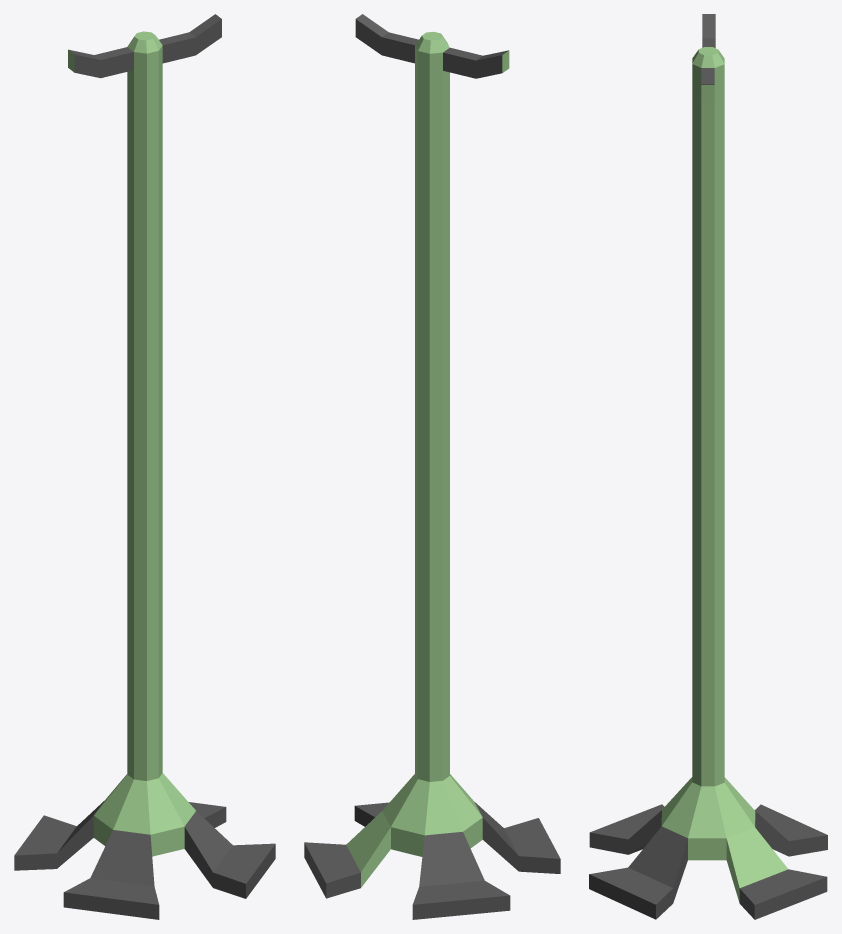
File: Hat rack.fbx
3 views of the same model, side by side, from view 1: azimuth 30°, elevation 25°; view 2: azimuth 150°, elevation 25°; view 3: azimuth 270°, elevation 25° (orthographic).
Visible parts, largest first — view 1: Hat rack; view 2: Hat rack; view 3: Hat rack.
Boxes of the visible parts, x1=… form: Hat rack: x1=14, y1=14, x2=275, y2=919; Hat rack: x1=304, y1=14, x2=560, y2=919; Hat rack: x1=589, y1=14, x2=827, y2=919.
Bounding box in the file's own units: 123 × 465 × 123.
